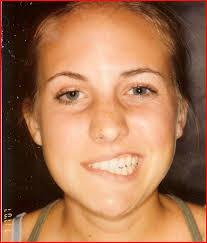strokeEyeWeak: (44, 68, 166, 111)
strokeMouthSevere: (79, 151, 150, 185)
